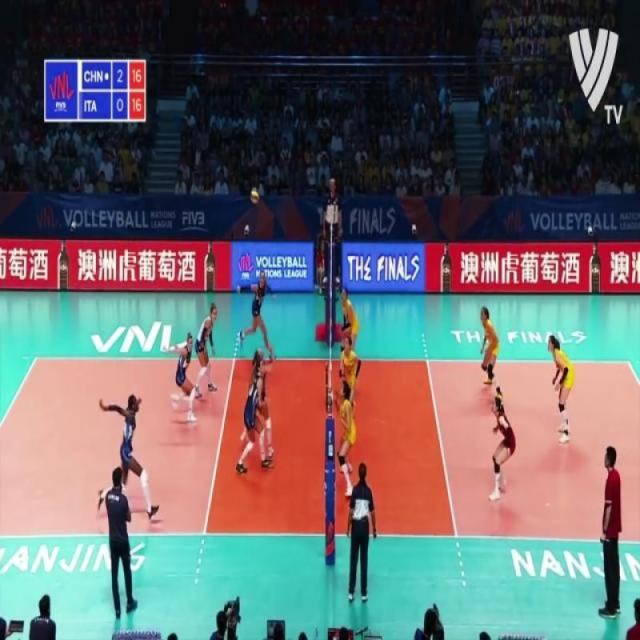volleyball: (250, 188, 260, 205)
